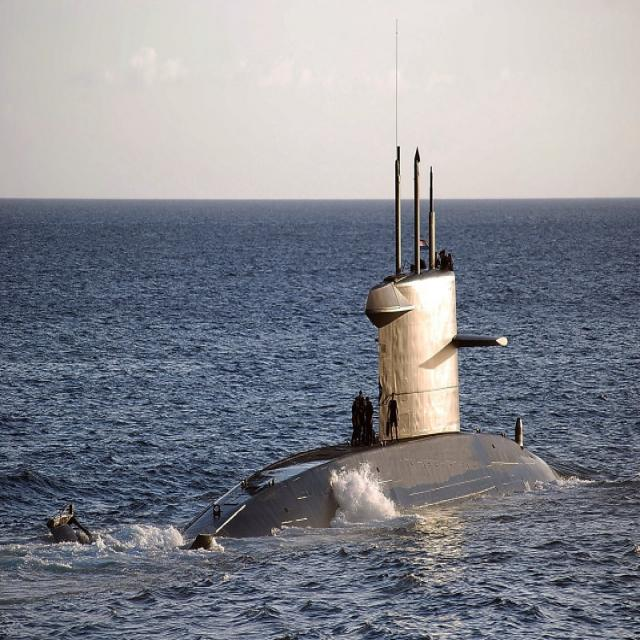submarine: (47, 153, 559, 547)
